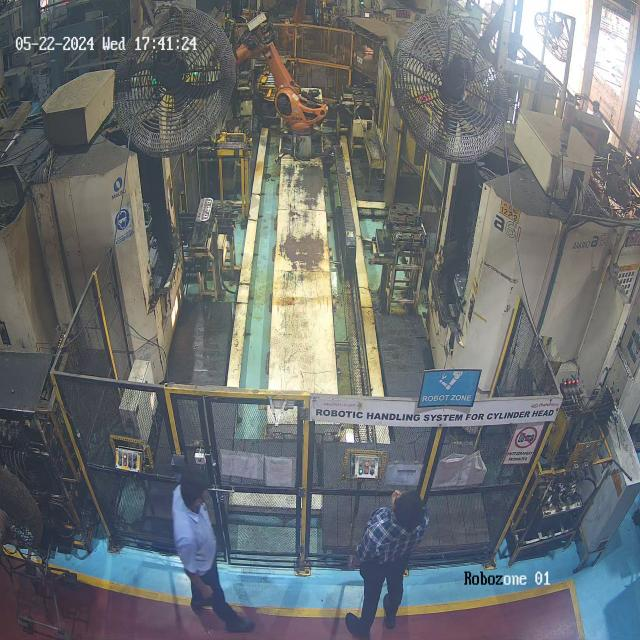person: (164, 463, 257, 630), (342, 479, 428, 640)
